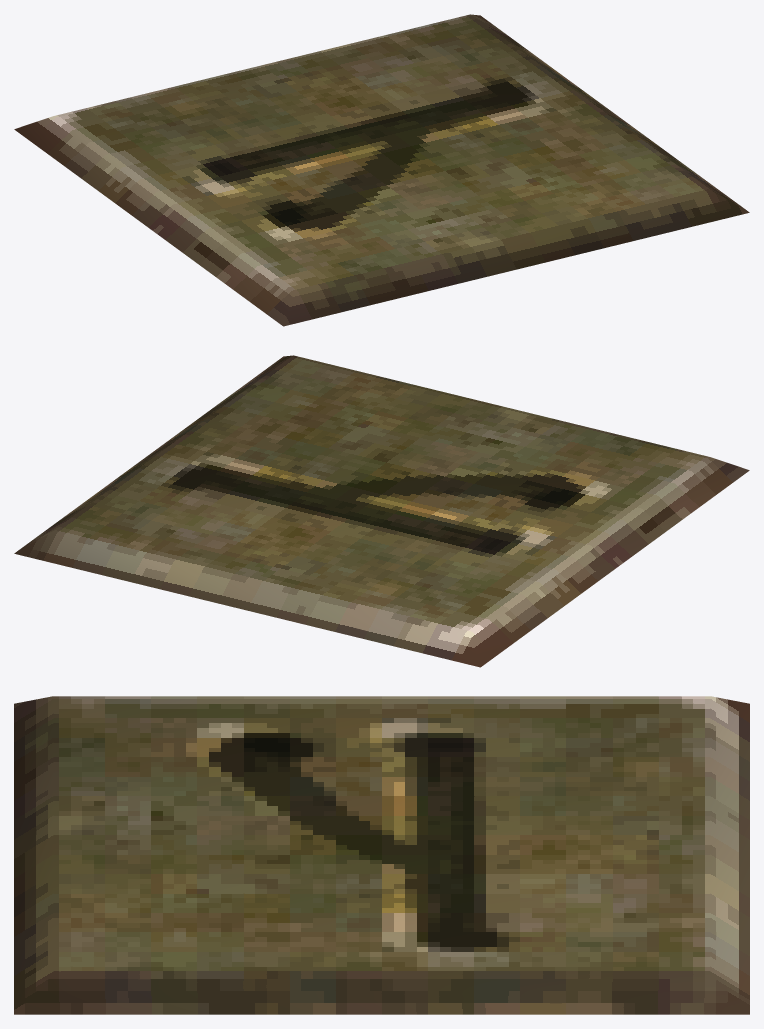
Rendered from EREBOR_RUNE_PZL_EREBOR_PZL_TILE_STATIC15.fbx.
3 views of the same model, one above another, from view 1: azimuth 30°, elevation 25°; view 2: azimuth 150°, elevation 25°; view 3: azimuth 270°, elevation 25° (orthographic). The views are drawn at different scales.
Visible parts, largest first — view 1: EREBOR_RUNE_PZL_EREBOR_PZL_TILE_STATIC15; view 2: EREBOR_RUNE_PZL_EREBOR_PZL_TILE_STATIC15; view 3: EREBOR_RUNE_PZL_EREBOR_PZL_TILE_STATIC15.
Boxes of the visible parts, bbox=[...] form: EREBOR_RUNE_PZL_EREBOR_PZL_TILE_STATIC15: bbox=[14, 14, 749, 326]; EREBOR_RUNE_PZL_EREBOR_PZL_TILE_STATIC15: bbox=[14, 355, 749, 667]; EREBOR_RUNE_PZL_EREBOR_PZL_TILE_STATIC15: bbox=[14, 696, 749, 1014].
Size of the model in its own units: 10240 by 370 by 10241.
1 material, 1 textured.
